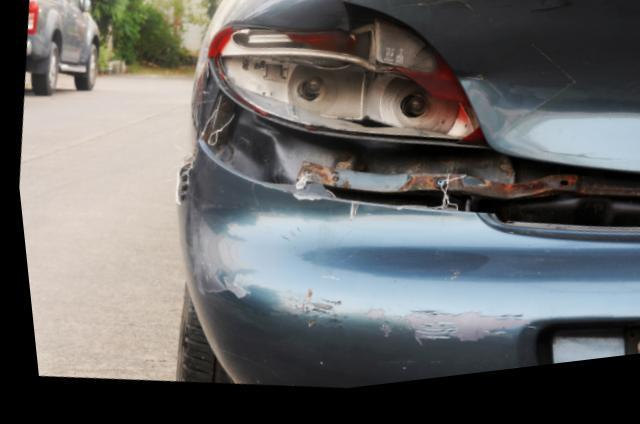dent: (227, 130, 278, 188)
dislocated part: (172, 78, 640, 396)
lamp broken: (208, 12, 477, 153)
scratch: (183, 268, 526, 357)
